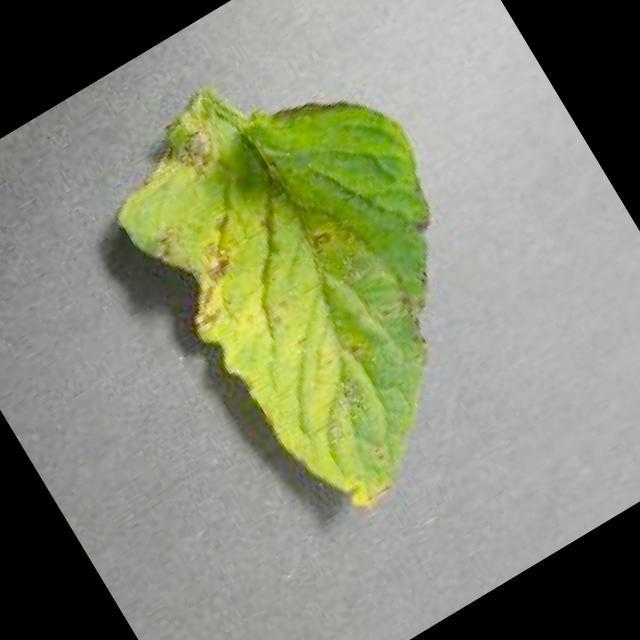Tomato bacterial spot leaf: (79, 11, 568, 557)
